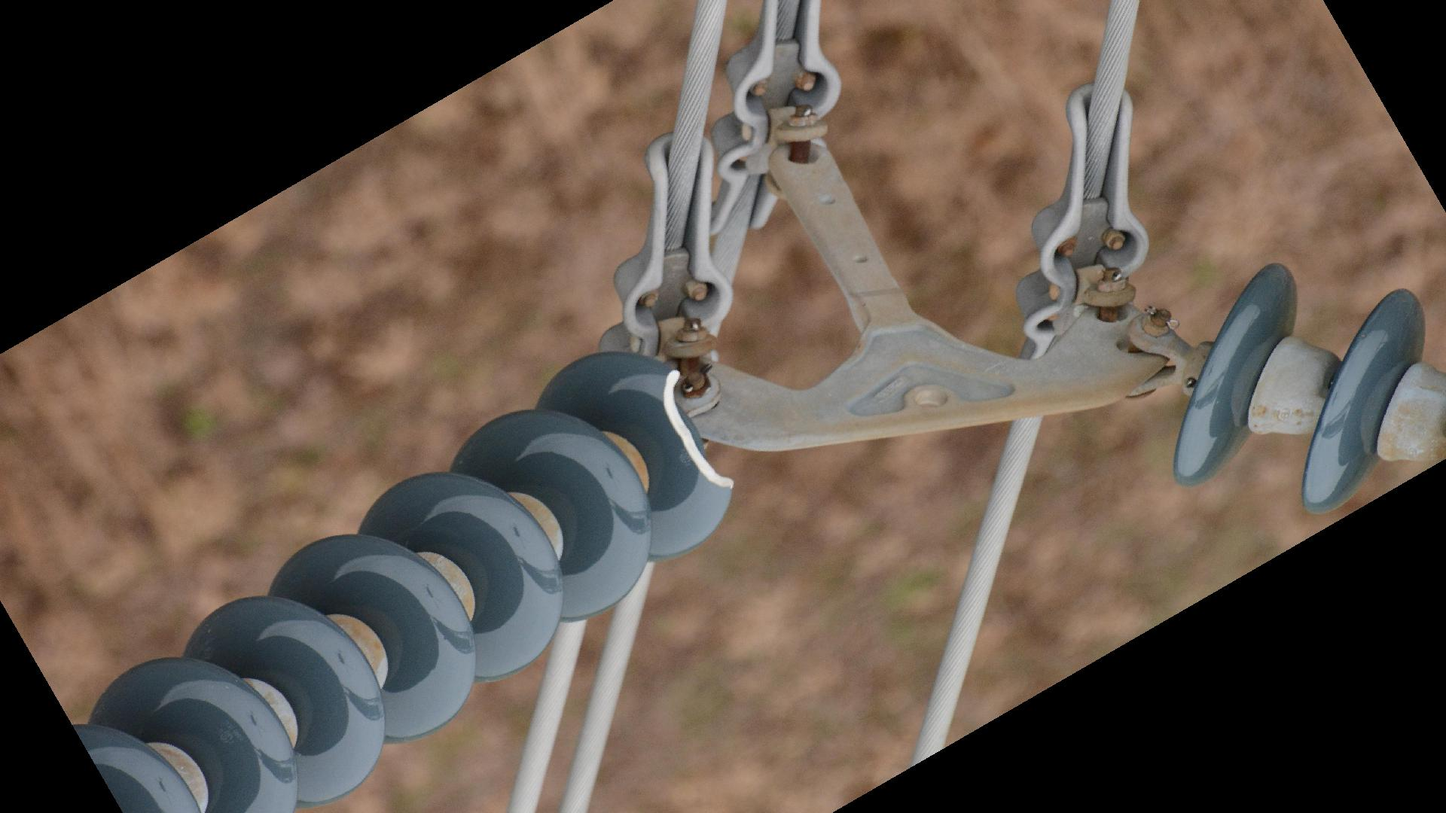insulator: (72, 346, 740, 813), (1162, 257, 1432, 522)
insulator_breakage: (648, 363, 748, 501)
